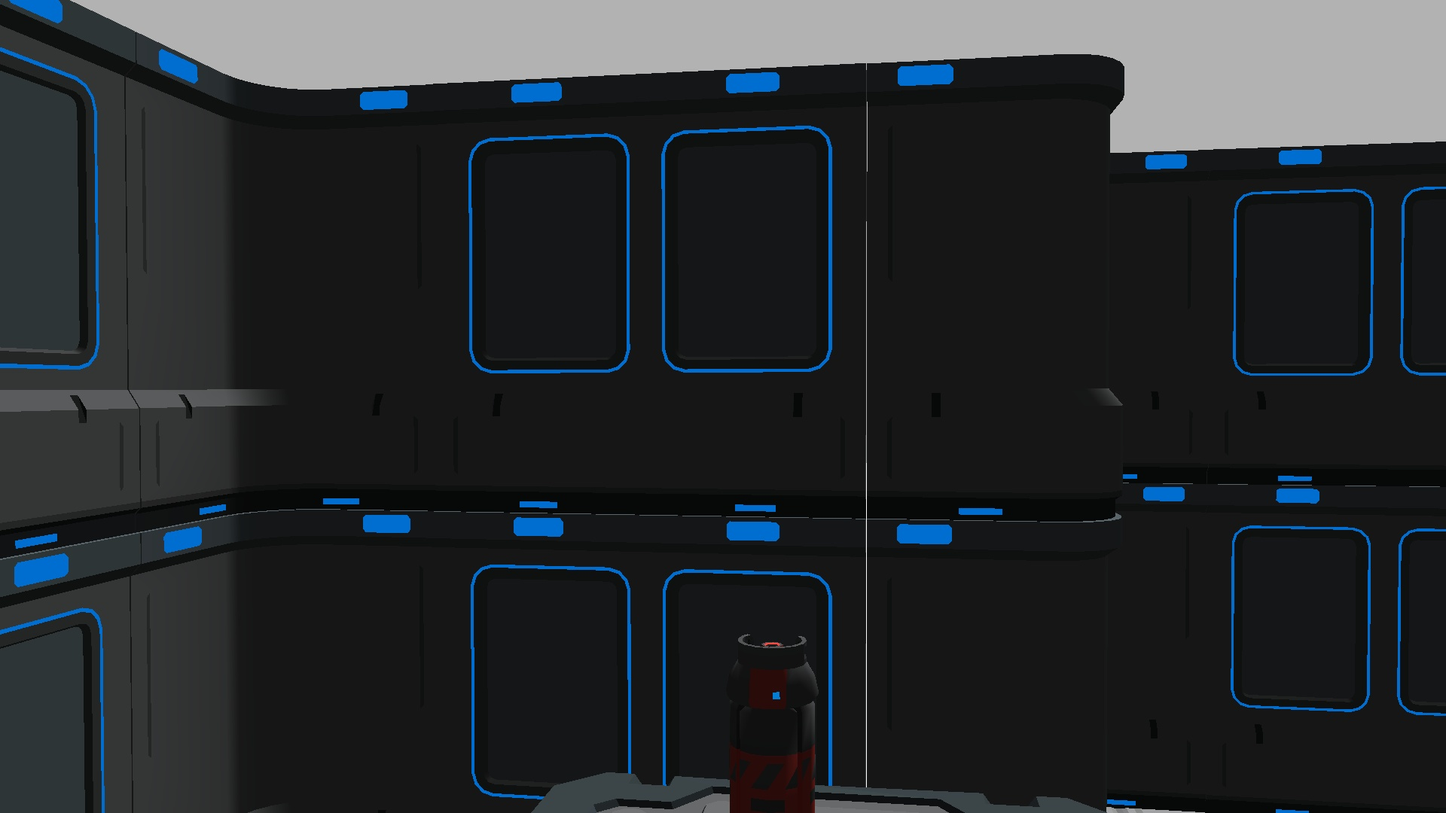red barrel: (729, 634, 818, 813)
